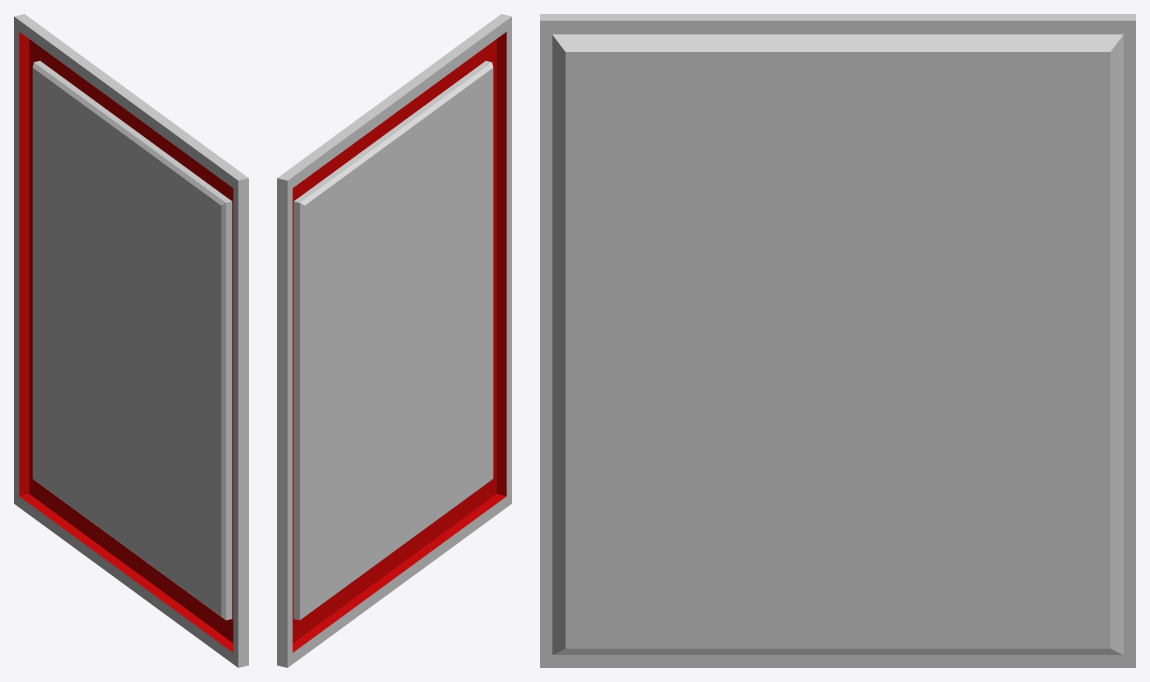
The model's file is Exit_door.fbx.
3 renders of one model, left to right at view 1: azimuth 30°, elevation 25°; view 2: azimuth 150°, elevation 25°; view 3: azimuth 270°, elevation 25°, orthographic. The views are drawn at different scales.
Visible parts, largest first — view 1: Plane; view 2: Plane; view 3: Plane.
Part boxes in pixels (x1=…): Plane: x1=14, y1=14, x2=248, y2=667; Plane: x1=277, y1=14, x2=511, y2=667; Plane: x1=540, y1=14, x2=1135, y2=667.
Bounding box in the file's own units: 170 × 8.64 × 204.
